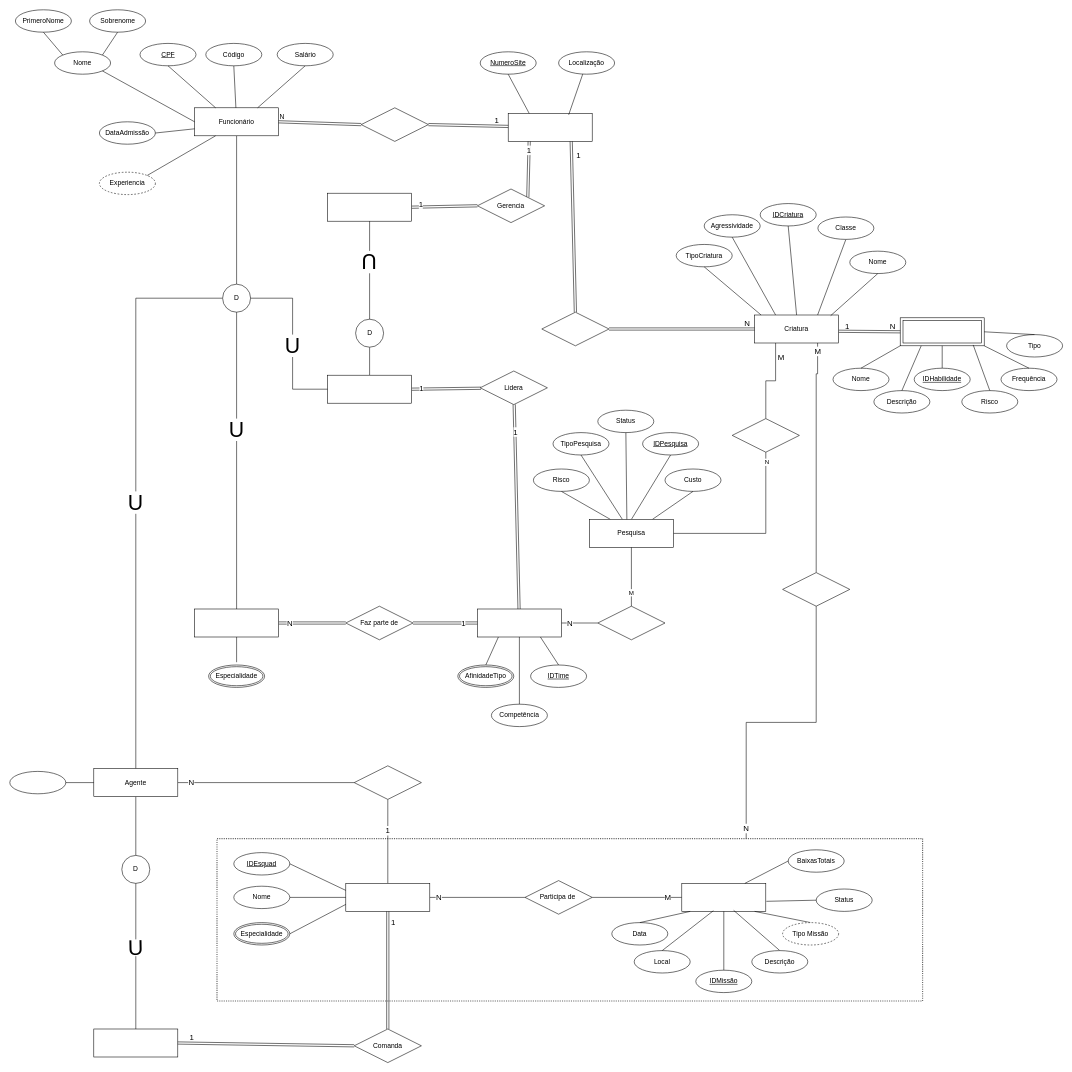
Image size: 1072x1072. Some labels were removed from this diagram. Each missing label, with the centre of its shape:
"Captura" goes at pixel 816 589.
"Comandante" goes at pixel 135 1042.
"Contida em" goes at pixel 575 329.
"Esquadrão" goes at pixel 387 897.
"Função" goes at pixel 37 782.
"Gestor de pesquisa" goes at pixel 369 389.
"Gestor de site" goes at pixel 369 207.
"Habilidade" goes at pixel 942 331.
"Membro de" goes at pixel 387 782.
"Missão" goes at pixel 723 897.
"Pesquisador" goes at pixel 236 622.
"Realiza" goes at pixel 631 623.
"Site" goes at pixel 550 127.
"Sobre" goes at pixel 765 435.
"Time de pesquisa" goes at pixel 519 622.
"Trabalha em" goes at pixel 394 124.
